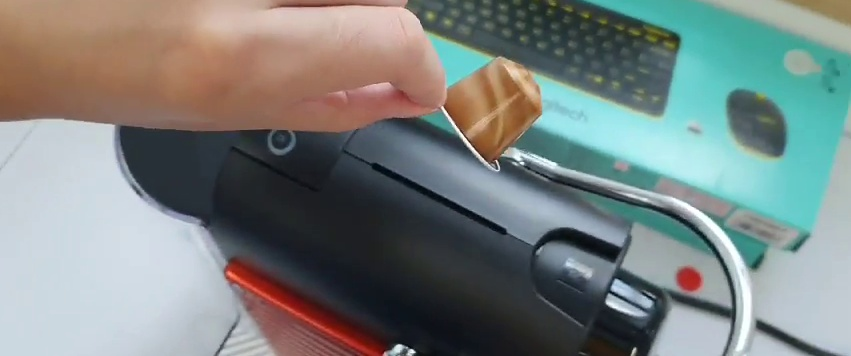capsule_12: (436, 54, 543, 174)
